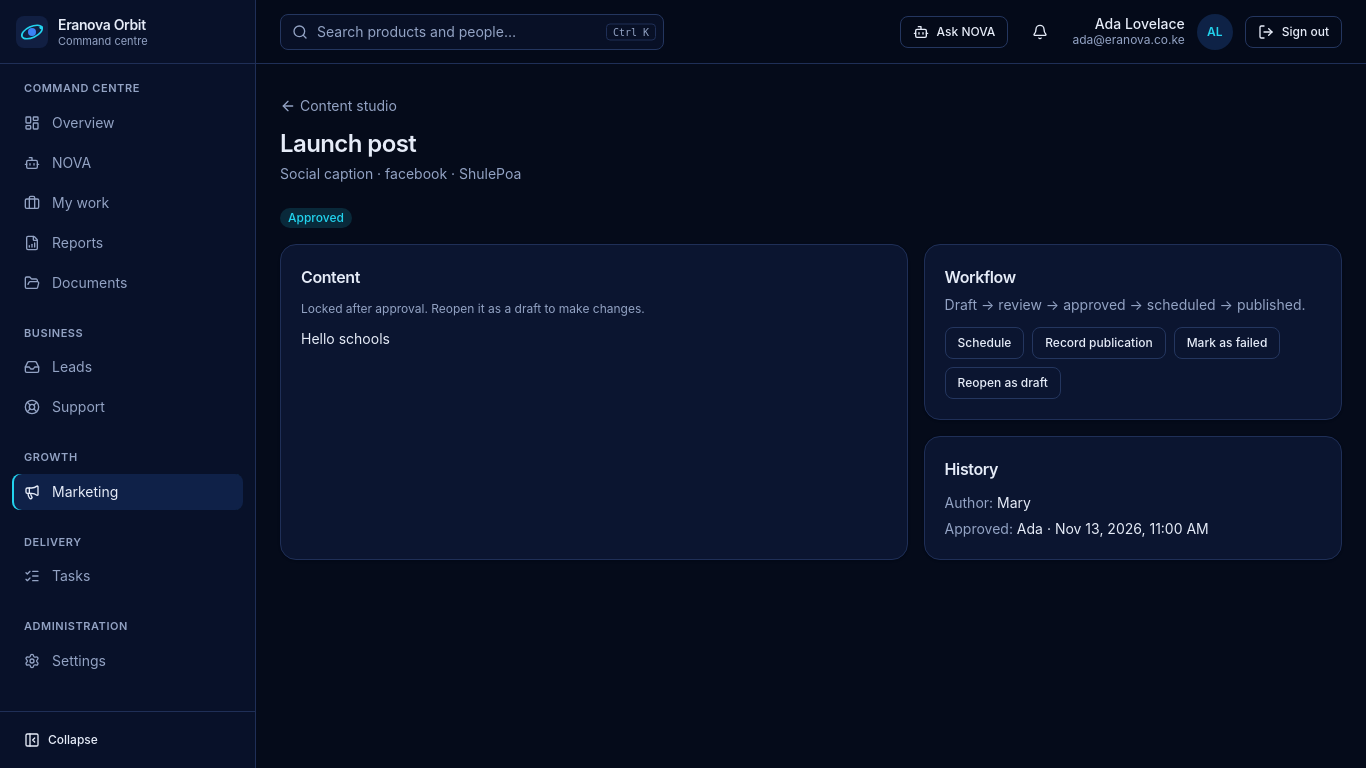
Test case: Phase 5 screens › records a publication only with a link to the live post
The width and height of the screenshot is (1366, 768).
Expected: the text "Locked after approval. Reopen it as a draft to make changes." is shown, 301,301 -> 645,316
Click the button "Record publication": (1099, 343) 1032,327 -> 1166,359
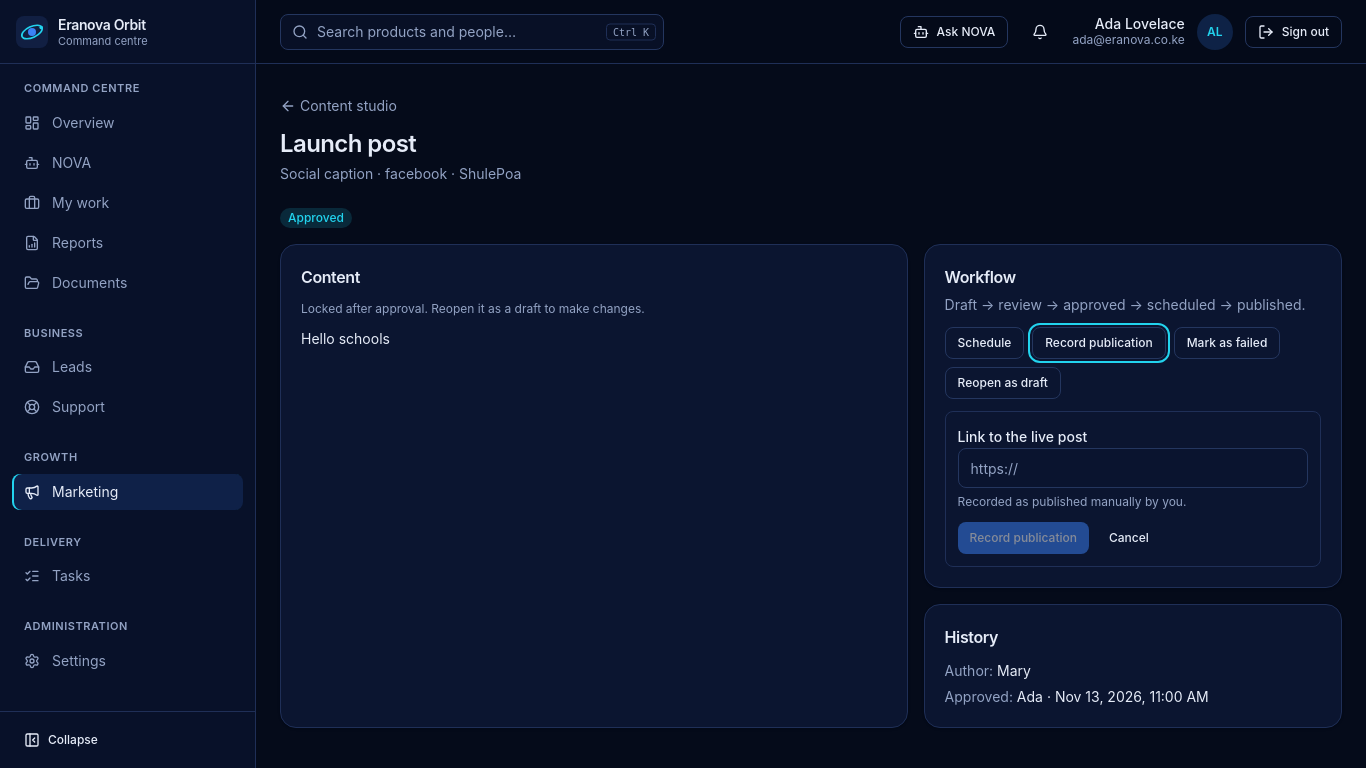
Now the button "Record publication" below "Recorded as published manually by you." is disabled, box 958,522 -> 1089,554
In the field labelled "Link to the live post": (1133, 468) 958,448 -> 1308,488, type "https://facebook.com/p/1"
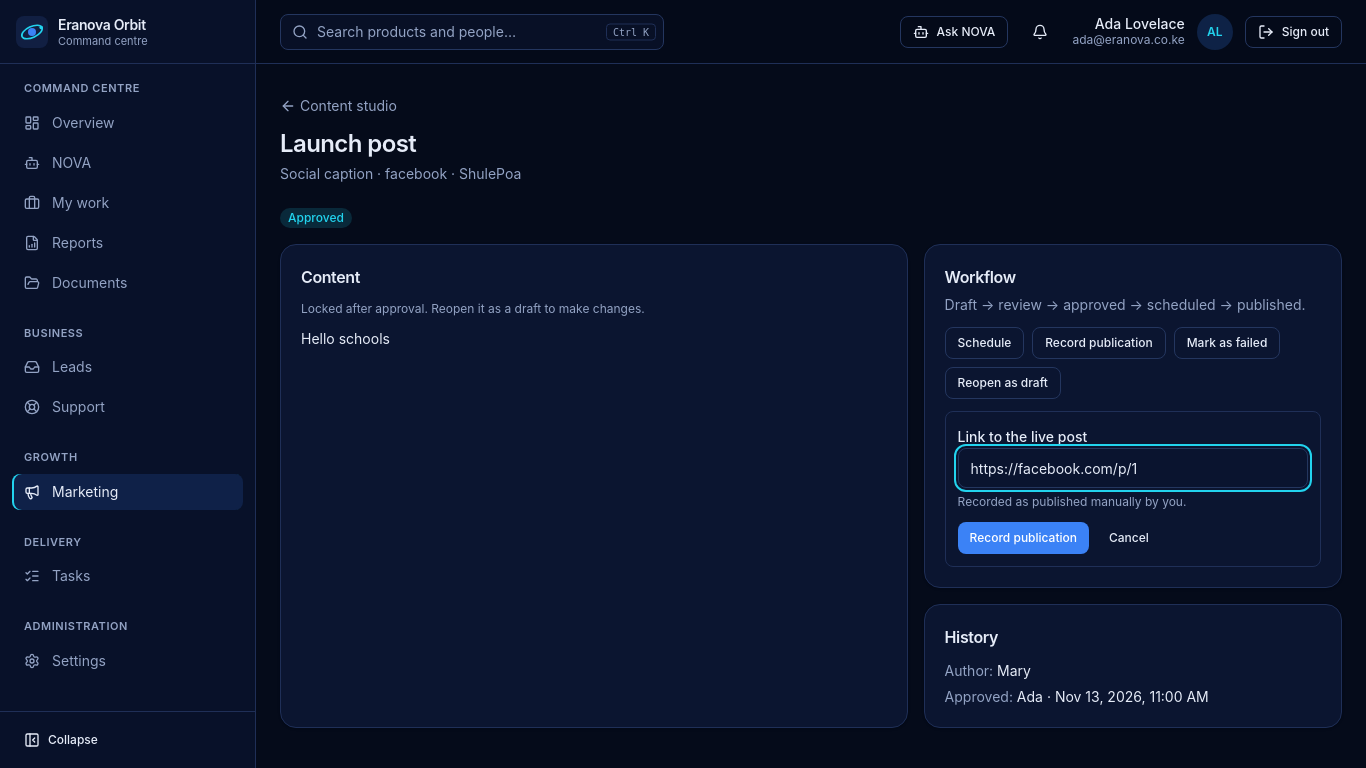
Click the button "Record publication" below "Recorded as published manually by you.": (1023, 538) 958,522 -> 1089,554
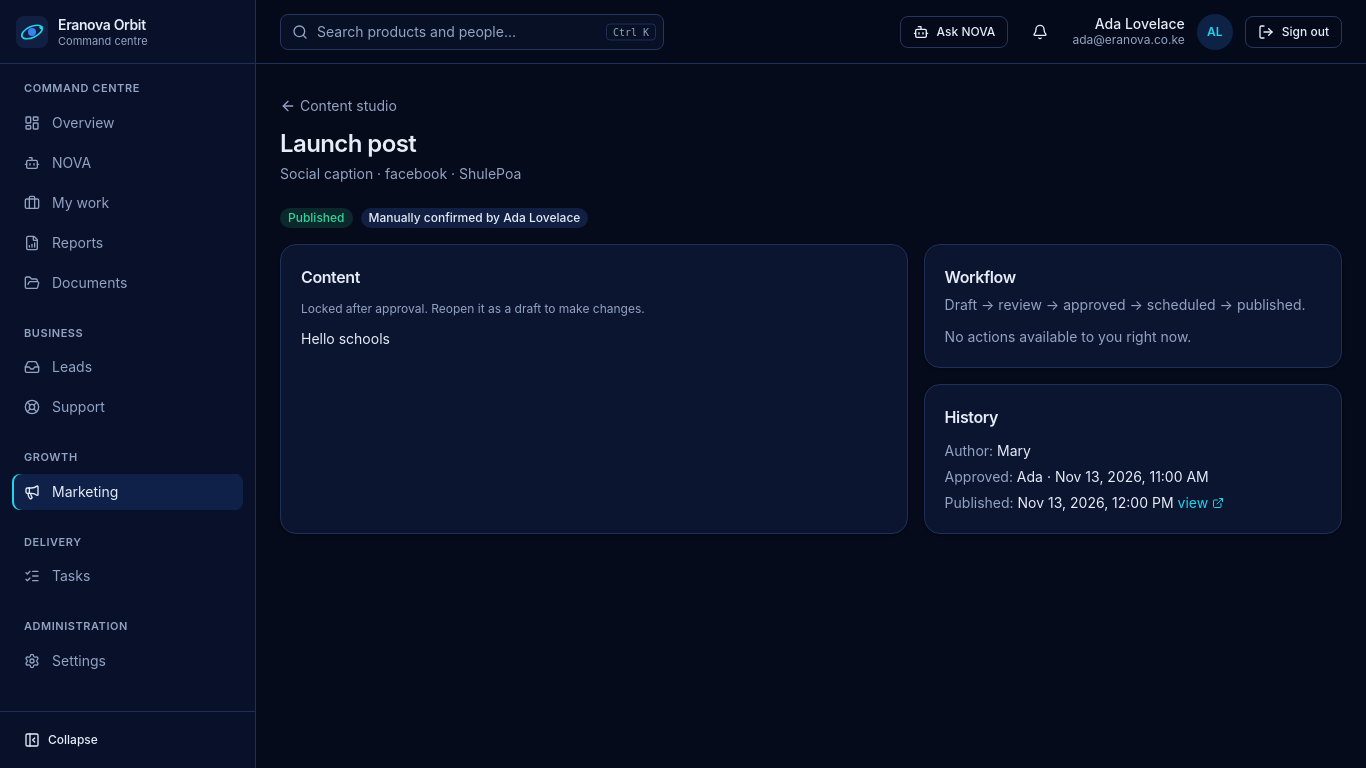
Now the text "Manually confirmed by Ada Lovelace" is shown, box 360,208 -> 588,228
